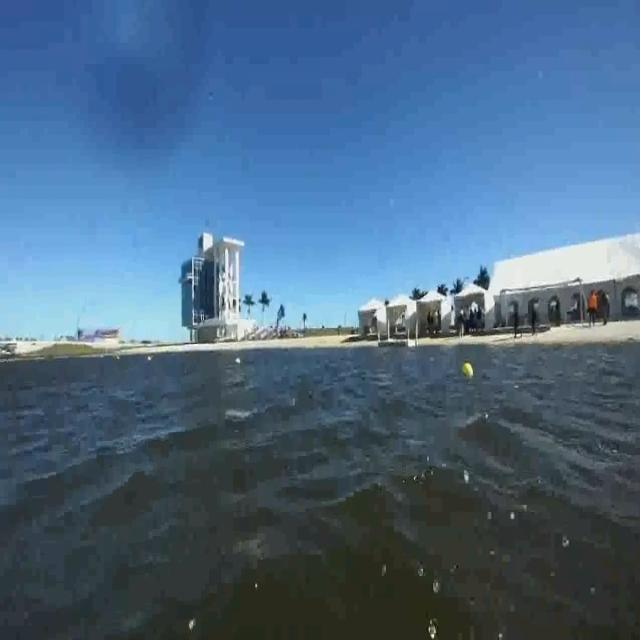yellow-buoy: (462, 359, 474, 378)
